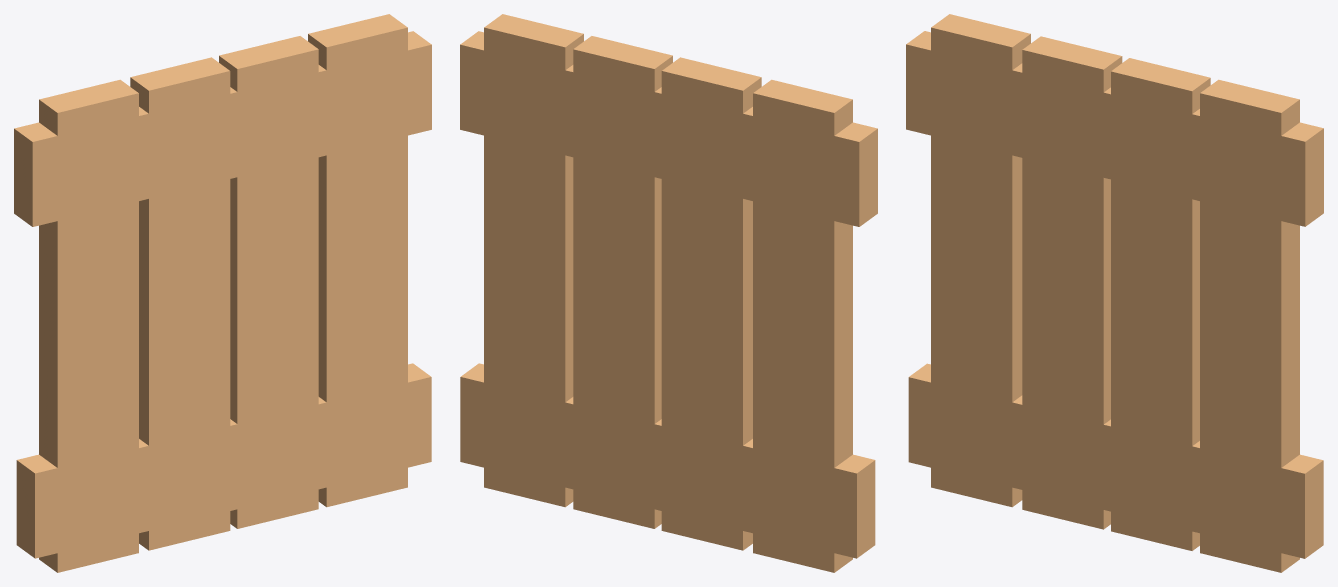
The model's file is kibakohuta.fbx.
3 views of the same model, side by side, from view 1: azimuth 30°, elevation 25°; view 2: azimuth 150°, elevation 25°; view 3: azimuth 330°, elevation 25° (orthographic).
Visible parts, largest first — view 1: polySurface16; view 2: polySurface16; view 3: polySurface16.
Boxes of the visible parts, bbox=[...] form: polySurface16: bbox=[14, 14, 431, 572]; polySurface16: bbox=[460, 14, 877, 572]; polySurface16: bbox=[906, 14, 1323, 572].
Size of the model in its own units: 10.22 by 11.25 by 0.8203.
